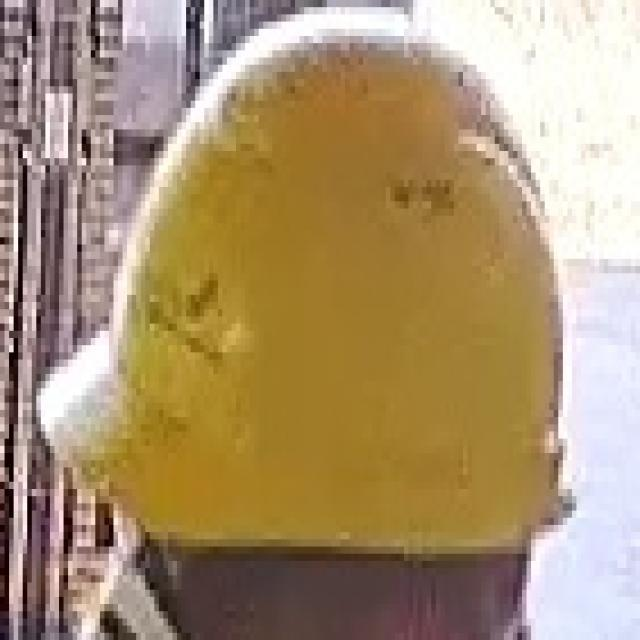yellow helmet: (36, 11, 584, 549)
